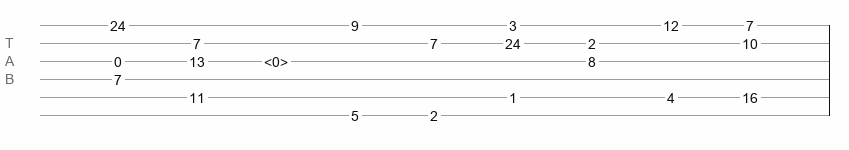0: (114, 54, 122, 64)
1: (509, 90, 517, 100)
10: (742, 36, 758, 46)
11: (189, 90, 205, 100)
12: (663, 18, 679, 28)
13: (189, 54, 205, 64)
16: (742, 90, 758, 100)
2: (430, 108, 438, 118), (588, 36, 596, 46)
24: (110, 18, 126, 28), (505, 36, 521, 46)
3: (509, 18, 517, 28)
4: (667, 90, 675, 100)
5: (351, 108, 359, 118)
7: (114, 72, 122, 82), (193, 36, 201, 46), (430, 36, 438, 46), (746, 18, 754, 28)
8: (588, 54, 596, 64)
9: (351, 18, 359, 28)
harmonic: (264, 54, 288, 64)
